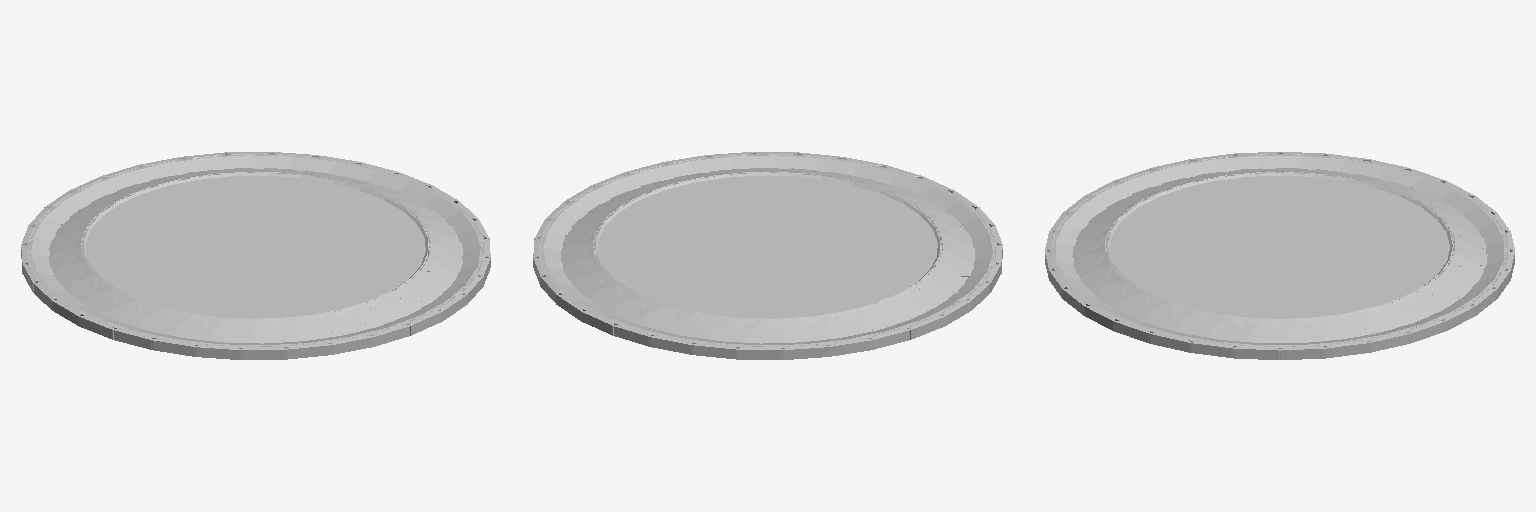
Rendered from platform.obj.
3 renders of one model, left to right at view 1: azimuth 30°, elevation 25°; view 2: azimuth 150°, elevation 25°; view 3: azimuth 270°, elevation 25°, orthographic.
Visible parts, largest first — view 1: Cylinder; view 2: Cylinder; view 3: Cylinder.
Part boxes in pixels (x1,y1,x2,y2): Cylinder: (21,152,490,359); Cylinder: (533,152,1002,359); Cylinder: (1045,152,1514,359).
Size of the model in its own units: 2 by 0.0963 by 2.